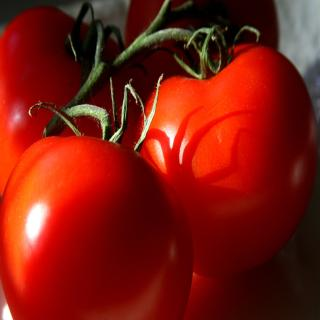tomato: (134, 26, 320, 279), (0, 98, 196, 319), (0, 5, 152, 197), (124, 0, 282, 93)
